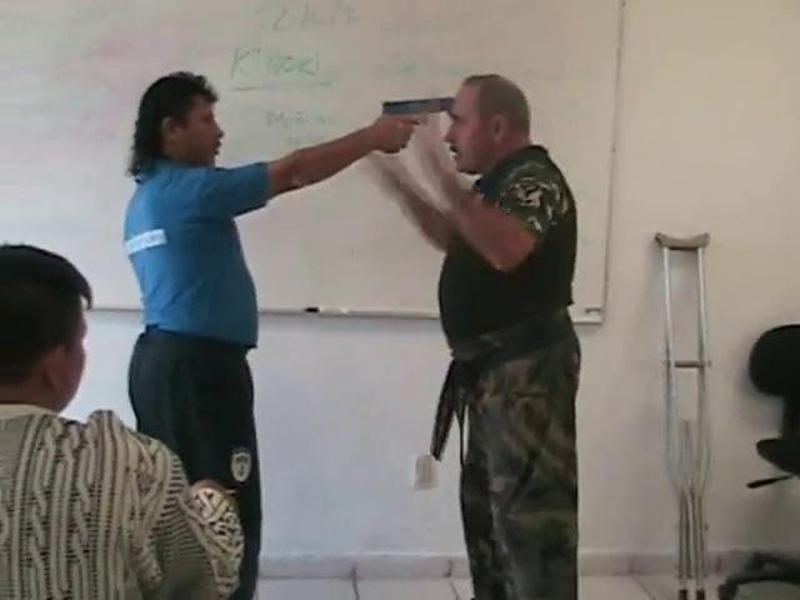Pistola: (365, 80, 459, 170)
